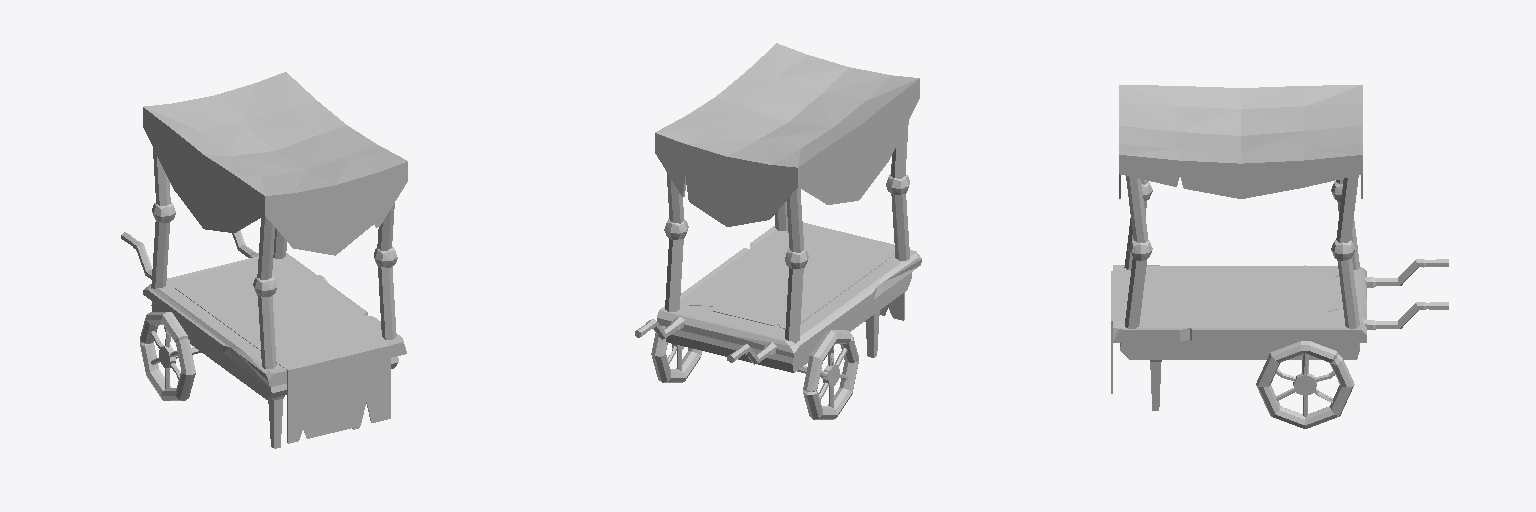
File: cart04.obj
The picture shows the model from 3 angles: view 1: azimuth 30°, elevation 25°; view 2: azimuth 150°, elevation 25°; view 3: azimuth 270°, elevation 25°; orthographic projection.
Visible parts, largest first — view 1: cart04; view 2: cart04; view 3: cart04.
Boxes of the visible parts, x1=… form: cart04: x1=121, y1=72, x2=407, y2=448; cart04: x1=635, y1=43, x2=921, y2=419; cart04: x1=1111, y1=85, x2=1448, y2=428.
Bounding box in the file's own units: 0.0259 × 0.0409 × 0.0459.